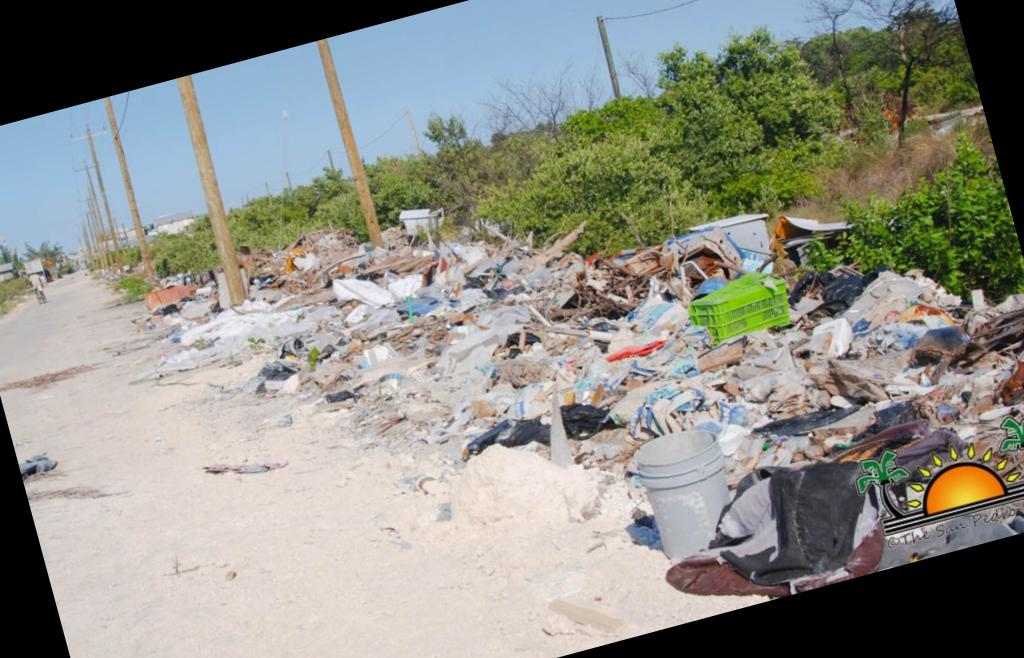road: (0, 273, 745, 658)
trash: (394, 194, 837, 461), (154, 302, 318, 374), (332, 275, 421, 307), (696, 341, 744, 373), (475, 304, 530, 329), (18, 454, 57, 479), (359, 308, 399, 332), (423, 320, 452, 344)
